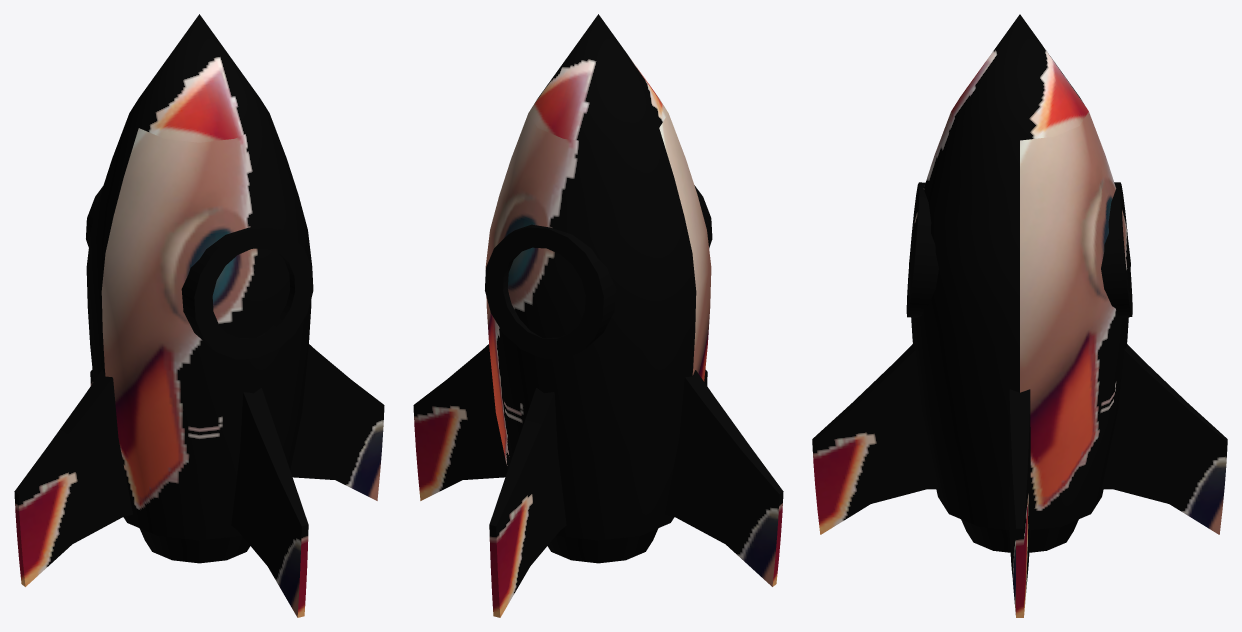
The model's file is rocket.fbx.
3 renders of one model, left to right at view 1: azimuth 30°, elevation 25°; view 2: azimuth 150°, elevation 25°; view 3: azimuth 270°, elevation 25°, orthographic.
Parts seen in each view (by area): view 1: rocket; view 2: rocket; view 3: rocket.
Boxes of the visible parts, <box> form: rocket: <box>14,14,384,617</box>; rocket: <box>413,14,783,617</box>; rocket: <box>812,14,1227,617</box>.
Size of the model in its own units: 0.3948 by 0.545 by 0.3948.
